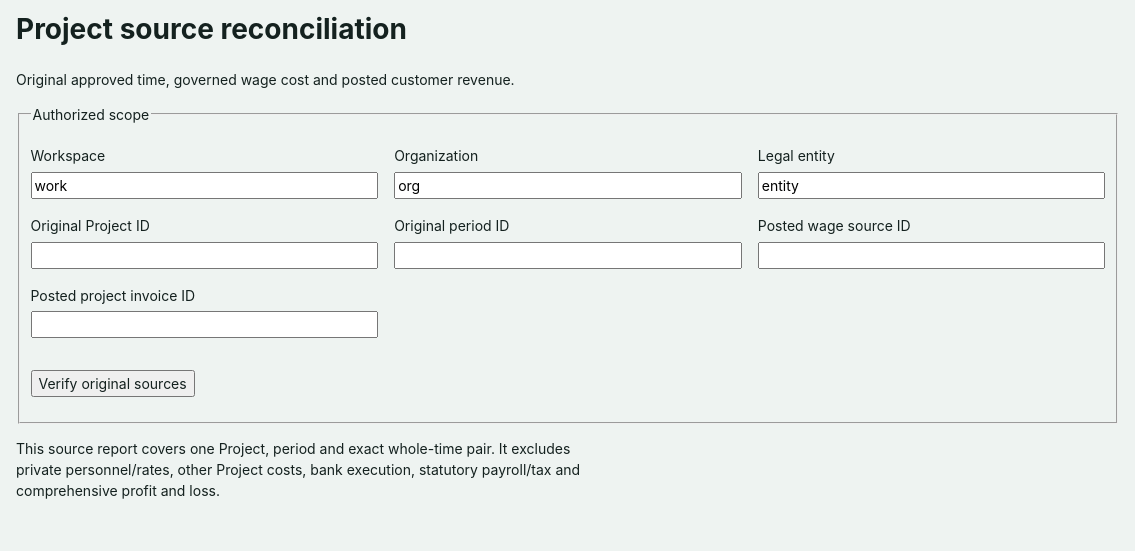
Test: rejects a valid report for a foreign source
The width and height of the screenshot is (1135, 551).
expect the field labelled "Workspace" holds "work": met, box [30, 172, 378, 199]
Step 1. Type "HCP-89debaae4c8647b3a0687e732c6985e1" into the field labelled "Original Project ID" → (204, 255), box [30, 242, 378, 269]
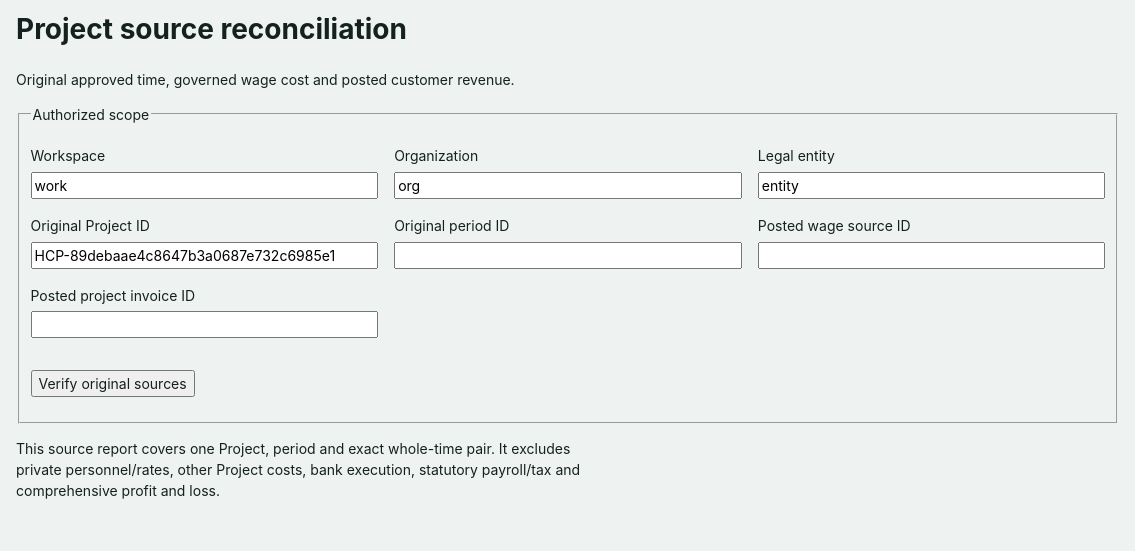
Step 2. Type "period" into the field labelled "Original period ID" → (568, 255), box [394, 242, 742, 269]
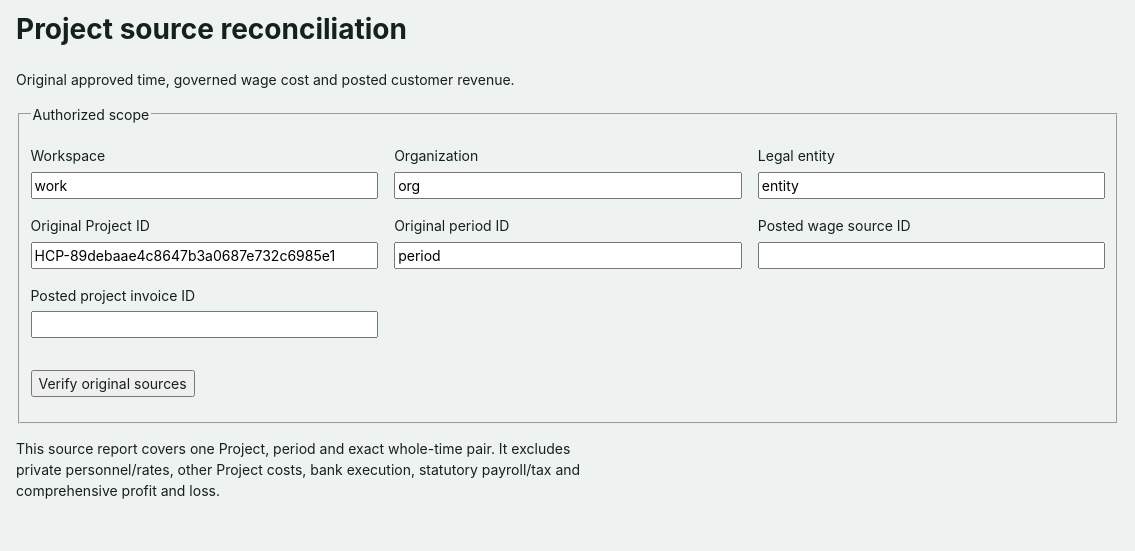
Step 3. Type "HC1-6b162a29f15a426ca398503b6a58984e" into the field labelled "Posted wage source ID" → (932, 255), box [758, 242, 1106, 269]
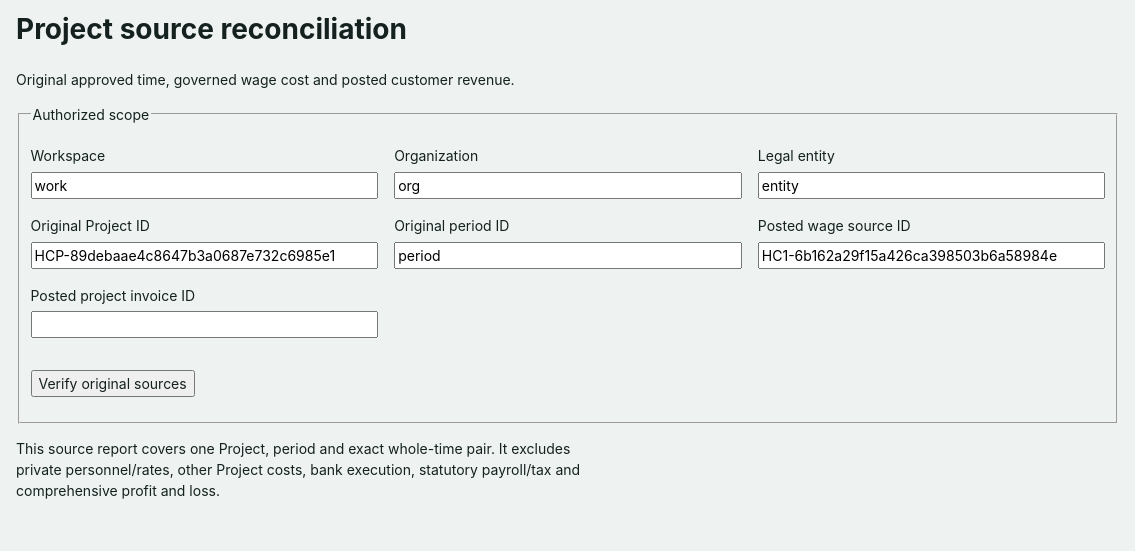
Step 4. Type "PB1-43728a6d88284c37b80fd9774d8cd9c4" into the field labelled "Posted project invoice ID" → (204, 325), box [30, 311, 378, 338]
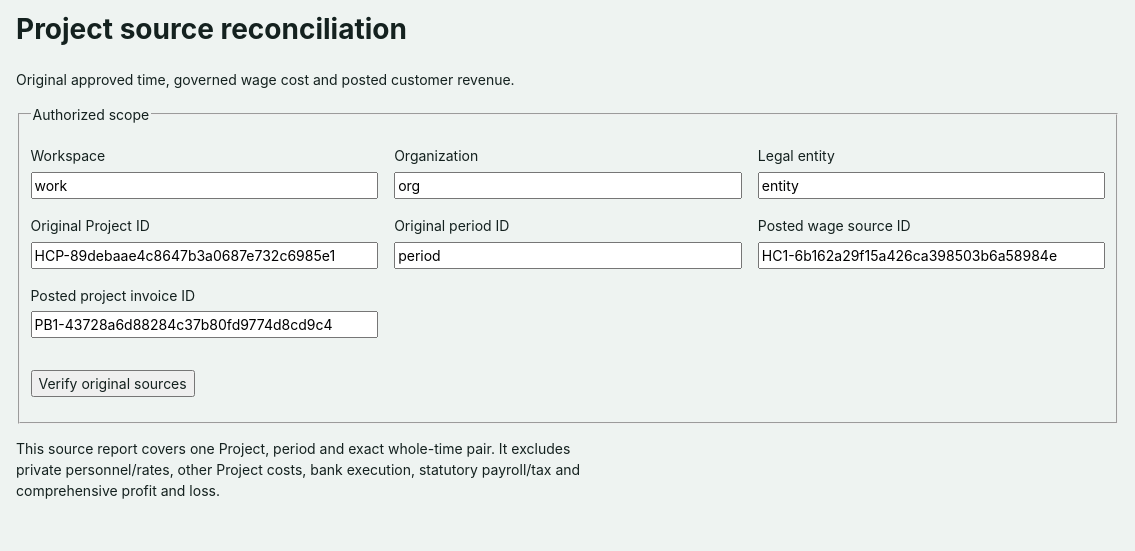
Step 5. Click the button "Verify original sources" → (113, 384), box [30, 370, 195, 397]
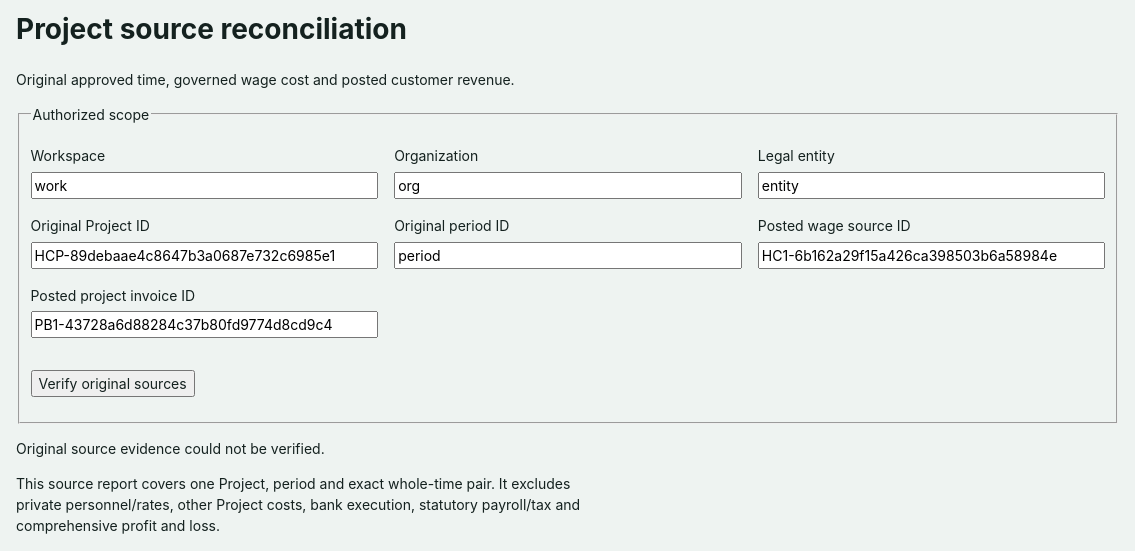
expect the message "Original source evidence could not be verified." is shown: met, box [16, 440, 325, 457]
